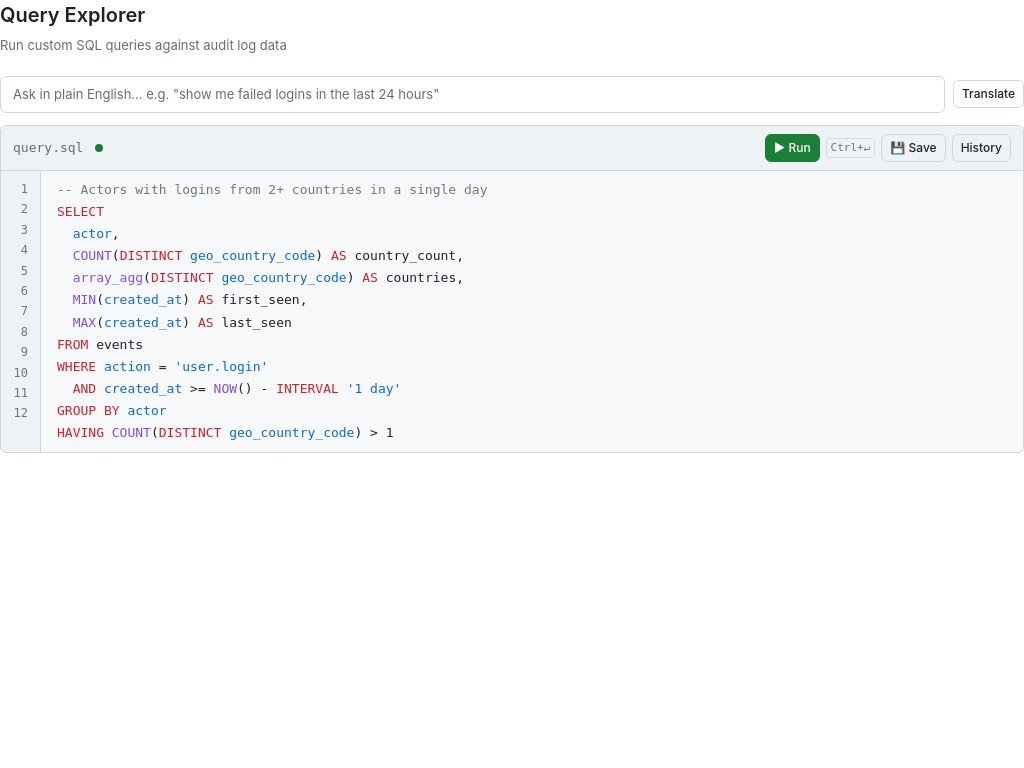
Test case: QueryPage › closes save modal when Cancel is clicked
Click the button "💾 Save": (914, 148) [881, 134, 946, 162]
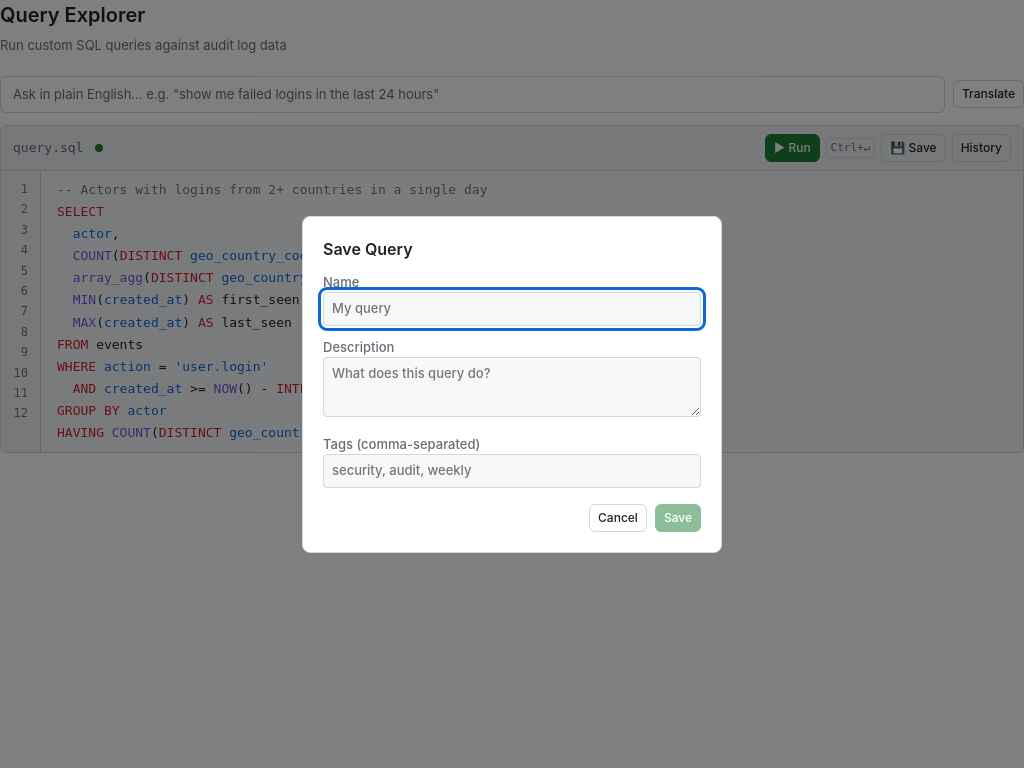
expect the heading "Save Query" is shown: met, box [323, 238, 413, 258]
Click the button "Cancel": (618, 518) [589, 504, 647, 532]
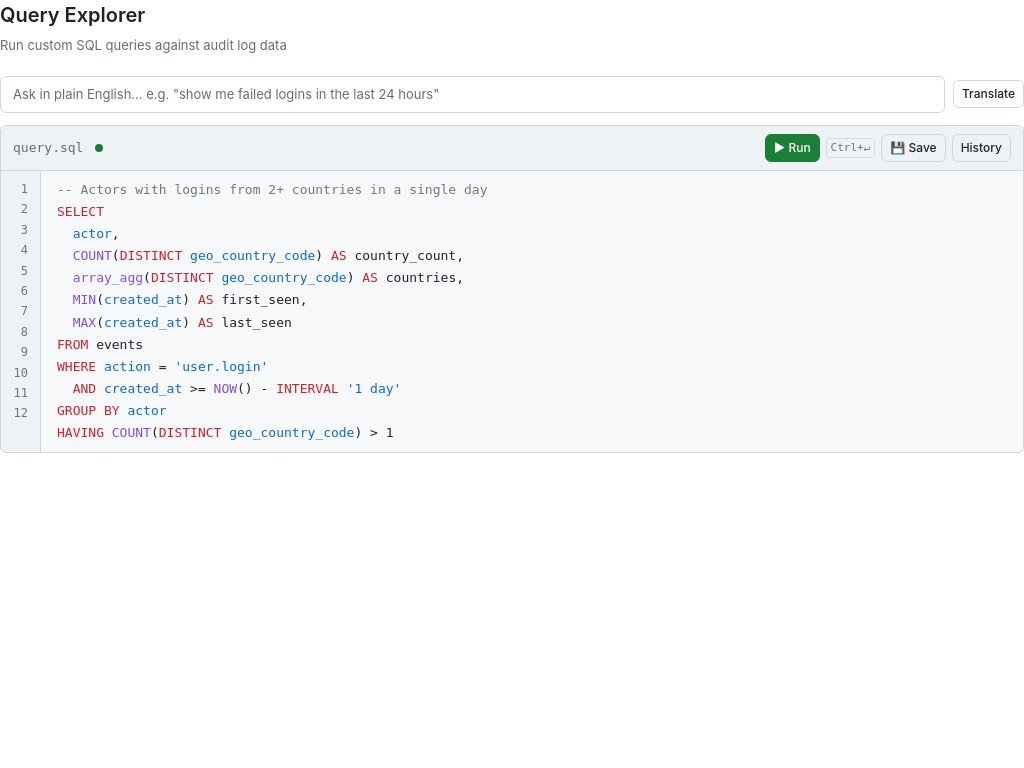
expect the heading "Save Query" is gone: met
